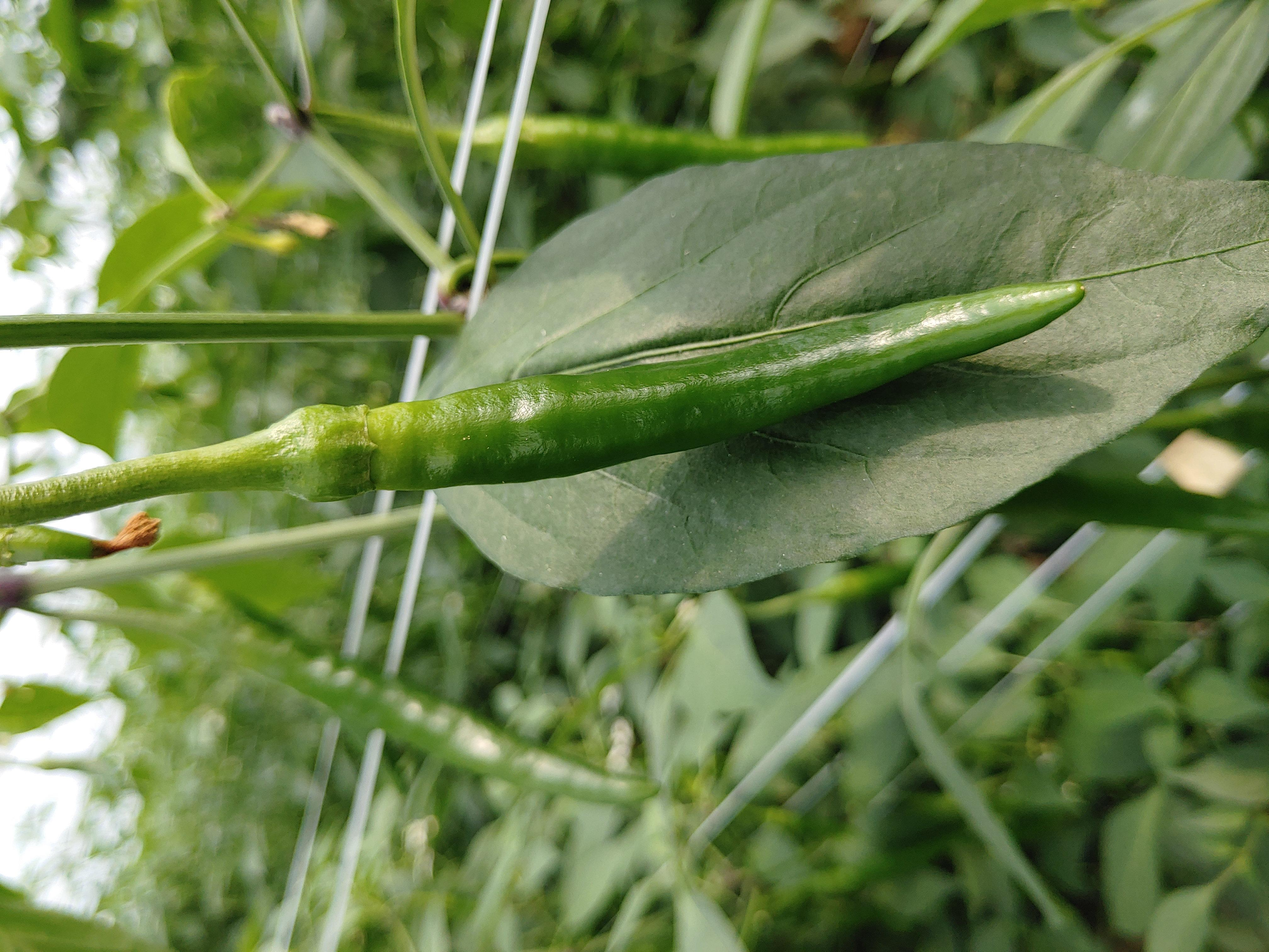Buah Cabai Sehat: (275, 273, 1090, 509)
